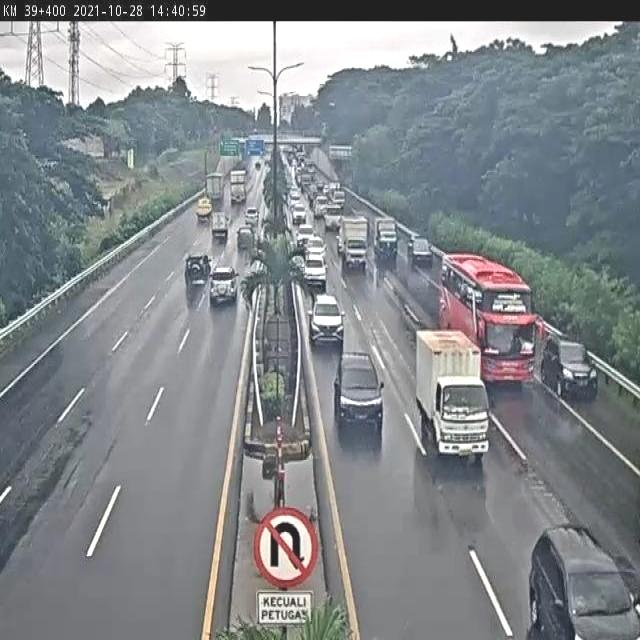Bus: (439, 252, 545, 390)
Car: (331, 351, 387, 433), (542, 335, 600, 399), (307, 291, 348, 351), (182, 250, 212, 296), (208, 264, 239, 306), (300, 254, 329, 288), (408, 235, 432, 266), (295, 222, 316, 248), (304, 237, 327, 255), (243, 204, 260, 228), (237, 226, 257, 246), (291, 203, 307, 225)
Truck: (415, 328, 492, 463), (342, 215, 369, 271), (372, 216, 399, 262), (228, 171, 247, 207), (205, 170, 225, 204), (211, 210, 231, 238), (196, 197, 213, 220)
Van: (525, 529, 640, 640), (322, 202, 344, 233)
